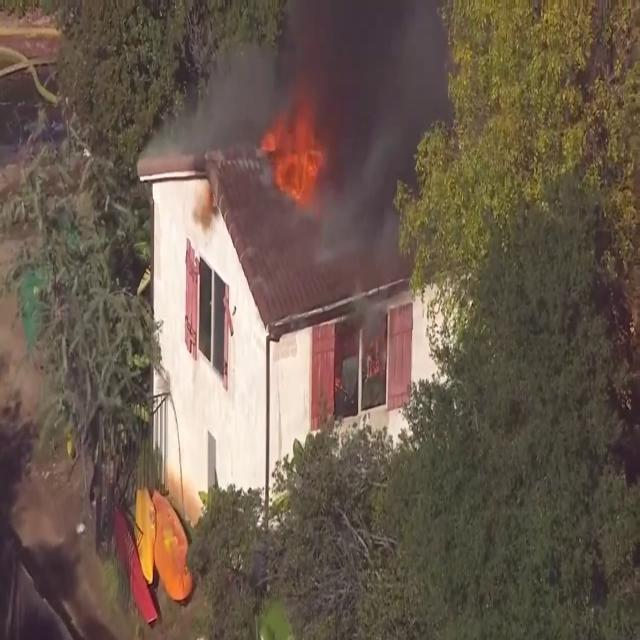Fire: (253, 86, 334, 206)
Smoke: (164, 0, 440, 228)
